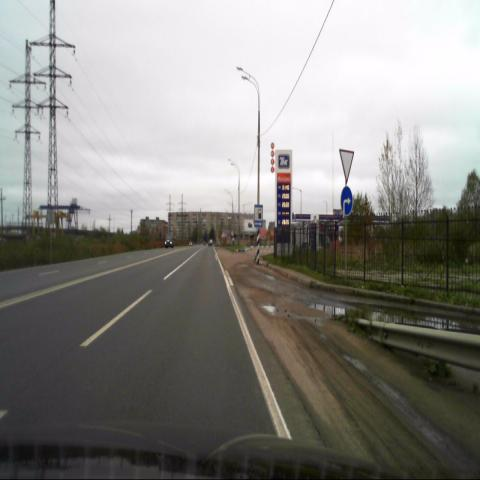4_1_2: (340, 186, 353, 217)
